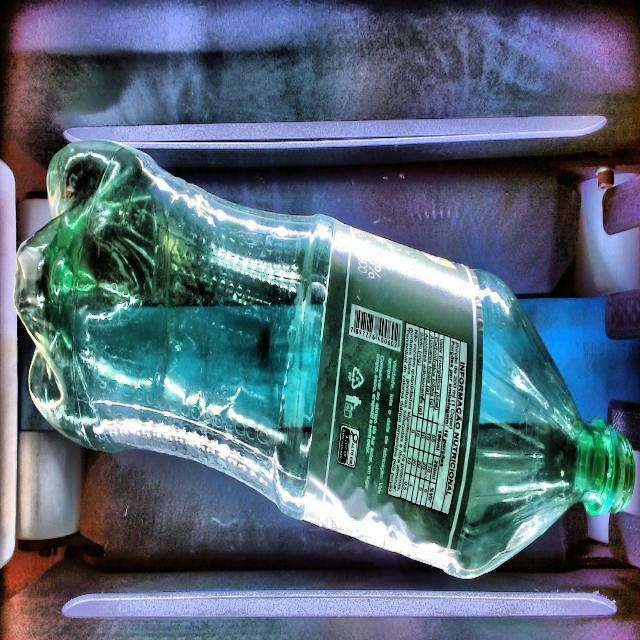bottom: (9, 124, 178, 459)
code: (349, 304, 402, 351)
label: (308, 224, 481, 549)
neck: (449, 269, 634, 578)
